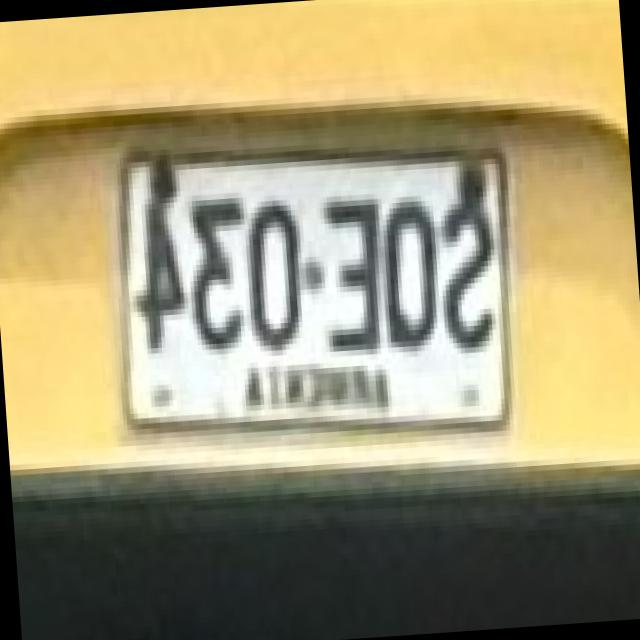number plate: (130, 149, 508, 416)
